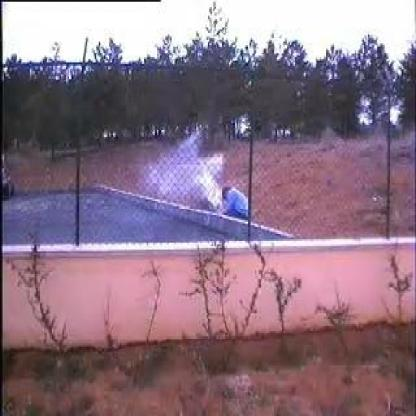-: (150, 140, 228, 206)
